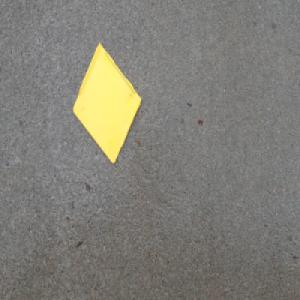PlasticPart: (71, 41, 142, 165)
